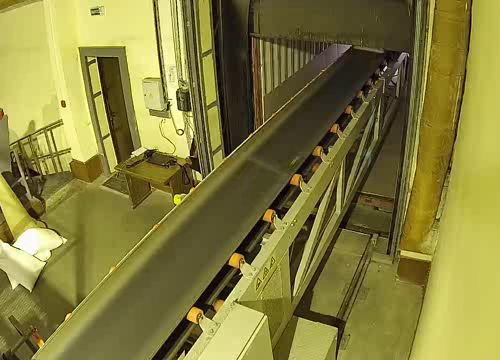bag: (353, 45, 388, 53)
